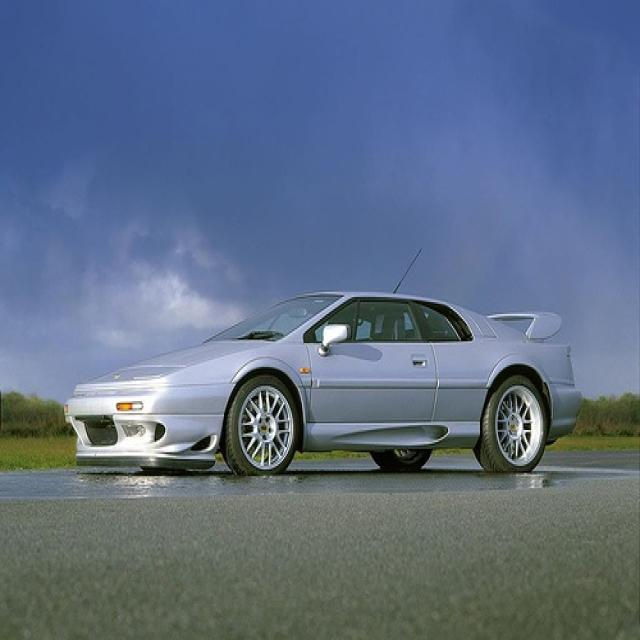car: (64, 292, 585, 476)
